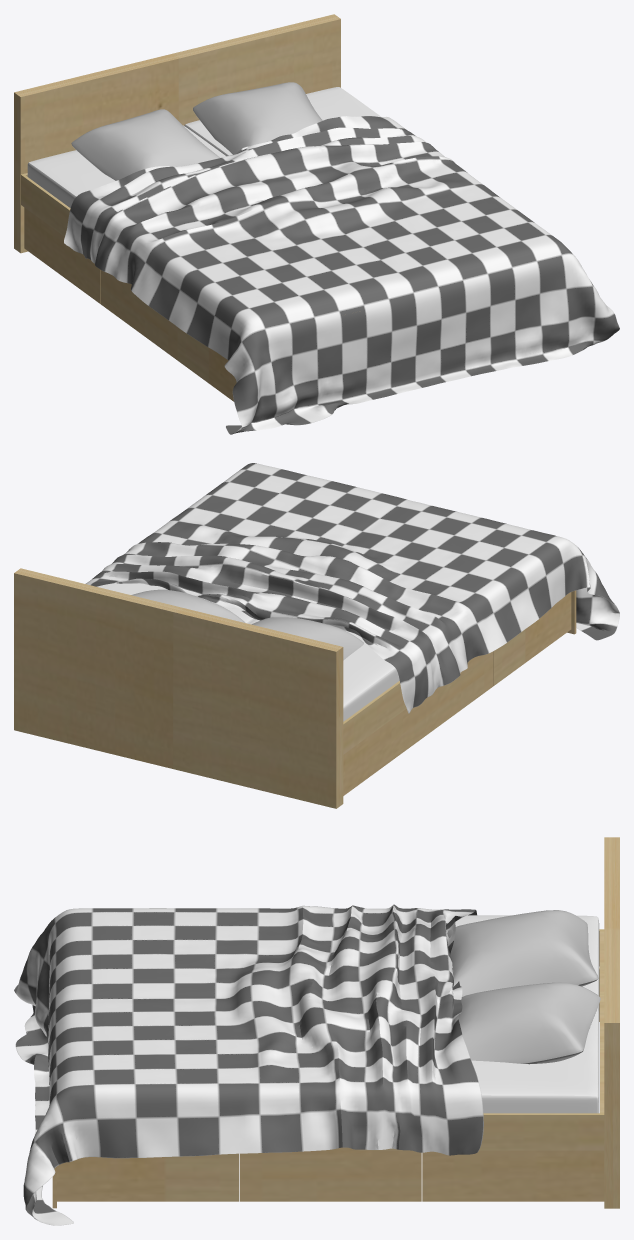
The model's file is sh_blend_swap_cc_0_bedwithtexture.glb.
3 views of the same model, one above another, from view 1: azimuth 30°, elevation 25°; view 2: azimuth 150°, elevation 25°; view 3: azimuth 270°, elevation 25° (orthographic). The views are drawn at different scales.
Size of the model in its own units: 1.98 by 0.765 by 2.26.
Materials: 5 (2 with a texture image).
